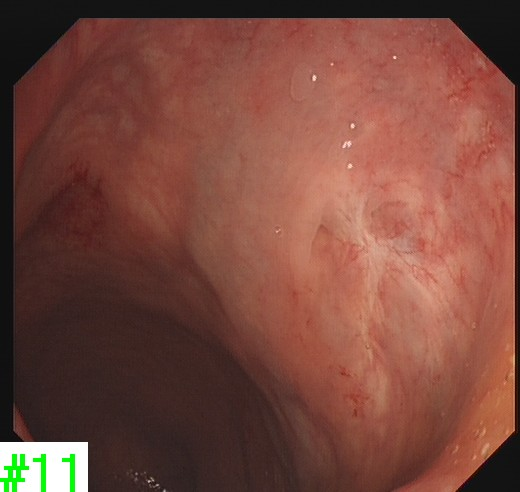others: (285, 59, 319, 102)
